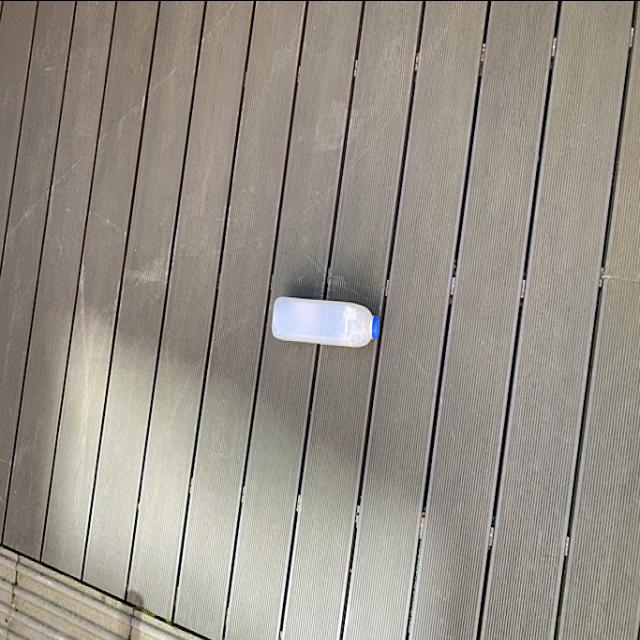HDPEM: (270, 294, 380, 350)
